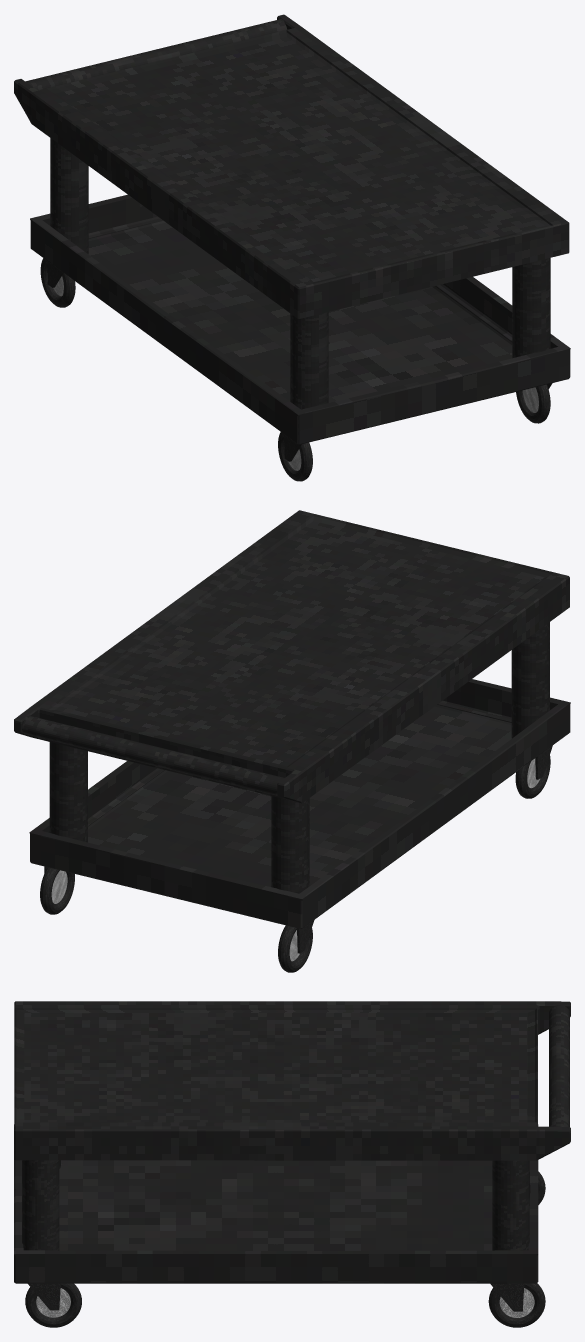
Rendered from cart.glb.
The picture shows the model from 3 angles, top to bottom: view 1: azimuth 30°, elevation 25°; view 2: azimuth 150°, elevation 25°; view 3: azimuth 270°, elevation 25°; orthographic projection. The views are drawn at different scales.
Visible parts, largest first — view 1: Cube, Cart, Cylinder.003, Cylinder.002, Cylinder.006, Cylinder.004, Cylinder.022, Cylinder.021, Cylinder.010; view 2: Cube, Cart, Cylinder.004, Cylinder.005, Cylinder.006, Cylinder.002, Cylinder.020, Cylinder.021, Cylinder.022; view 3: Cube, Cart, Cylinder.005, Cylinder.003, Cylinder.004, Cylinder.010, Cylinder.020, Cylinder.015, Cylinder.012, Cylinder.019, Cylinder.017.
Part boxes in pixels (x1,y1,x2,y2): Cube: (14,14,569,318); Cart: (30,194,570,444); Cylinder.003: (512,258,550,358); Cylinder.002: (290,312,328,409); Cylinder.006: (50,138,88,253); Cylinder.004: (25,19,287,90); Cylinder.022: (278,432,312,481); Cylinder.021: (40,258,75,307); Cylinder.010: (516,384,550,423); Cube: (14,510,569,803); Cart: (29,679,570,928); Cylinder.004: (22,715,284,795); Cylinder.005: (49,742,87,842); Cylinder.006: (271,796,309,893); Cylinder.002: (511,622,549,738); Cylinder.020: (40,867,74,914); Cylinder.021: (278,925,312,972); Cylinder.022: (515,755,550,798); Cube: (14,1001,570,1160); Cart: (14,1124,538,1283); Cylinder.005: (492,1160,529,1250); Cylinder.003: (22,1160,59,1250); Cylinder.004: (549,1005,569,1126); Cylinder.010: (25,1283,81,1327); Cylinder.020: (488,1283,545,1327); Cylinder.015: (490,1283,524,1311); Cylinder.012: (28,1283,60,1310); Cylinder.019: (36,1288,70,1317); Cylinder.017: (499,1288,534,1317).
Bounding box in the file's own units: 0.8382 × 0.6173 × 1.52.
2 materials, 2 textured.
